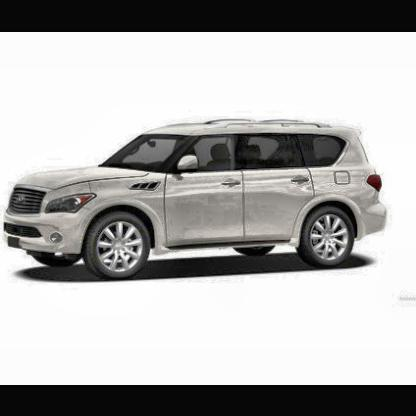Infiniti QX56 SUV 2011: (2, 117, 391, 283)
